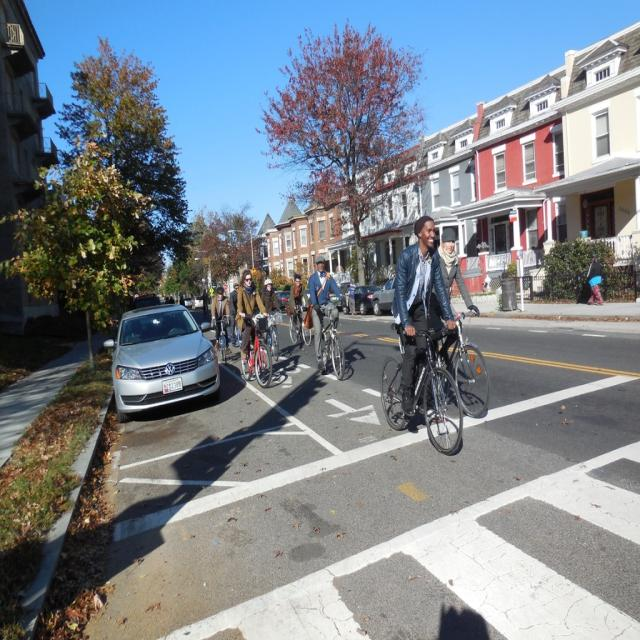car: (98, 294, 216, 419)
